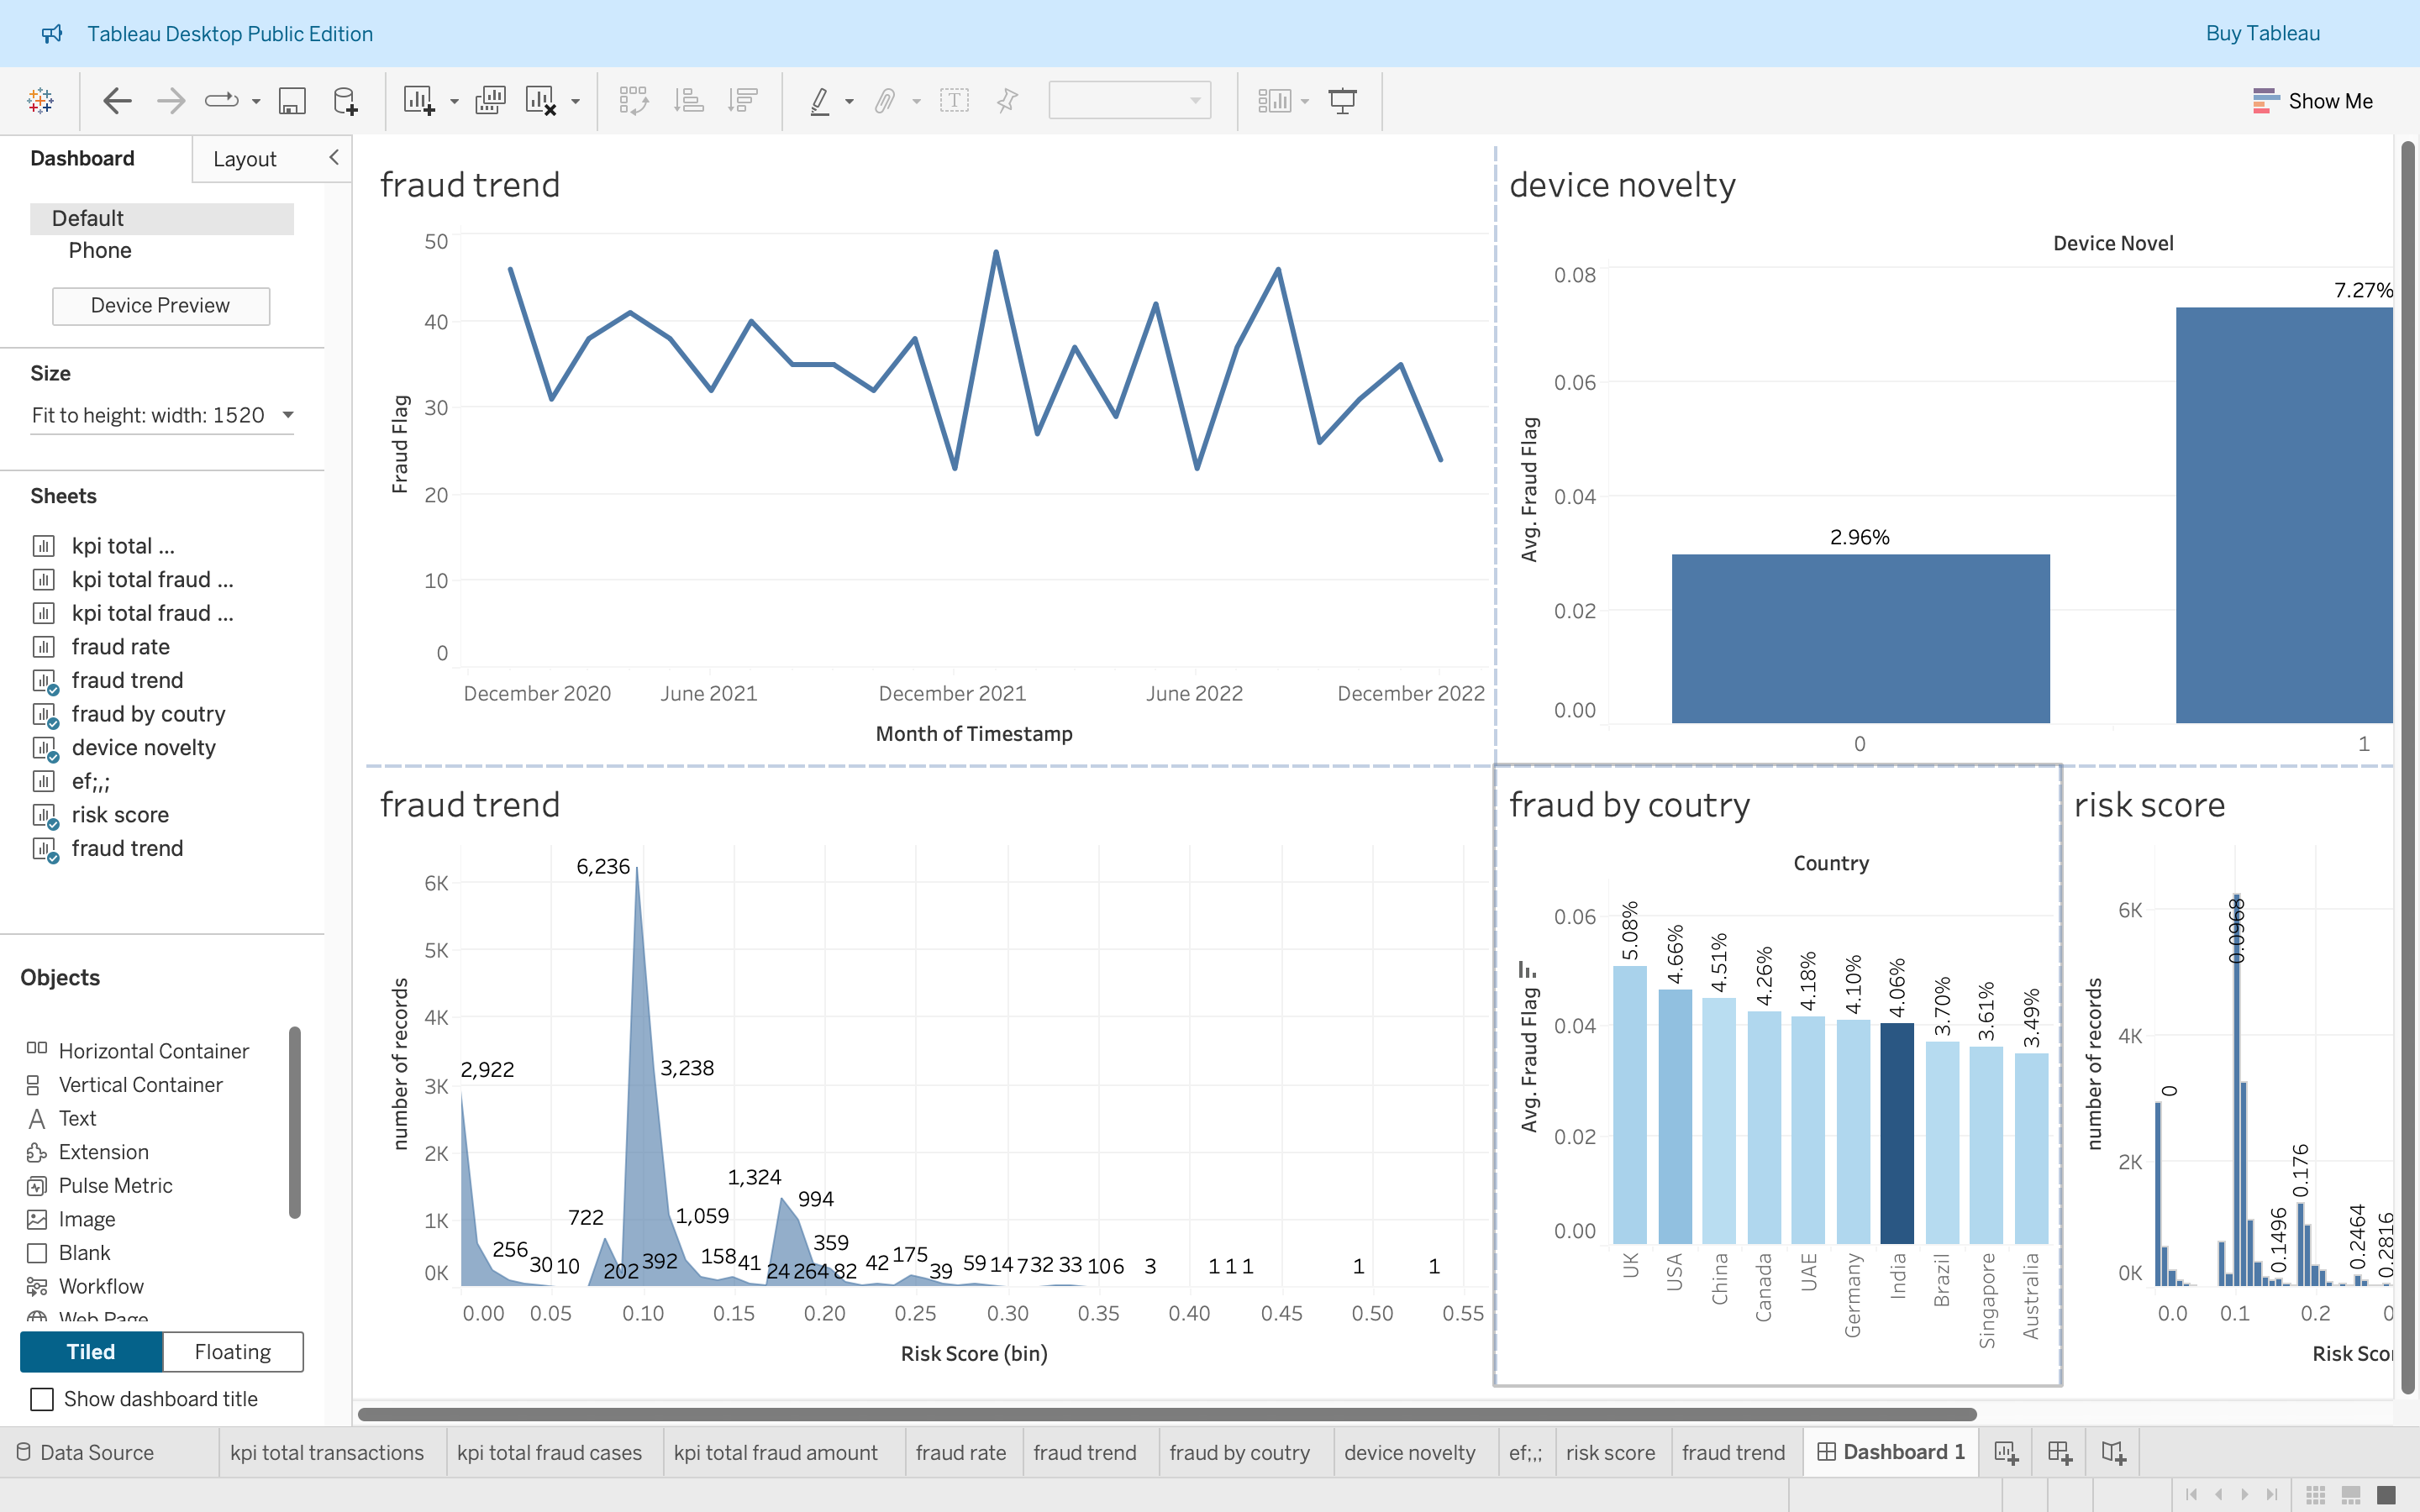

This screenshot's page, from the dashboard's own definition file:
{"tool":"tableau","page":{"name":"Dashboard 1","canvas":[1000,1000],"units":"permille","ordinal":0},"visuals":[{"type":"title","box":[6.5,11.8,987,47.1]},{"type":"worksheet","title":"kpi total fraud cases","mark":"Text","box":[6.5,58.9,125.4,134.4]},{"type":"worksheet","title":"fraud rate","mark":"Automatic","box":[131.9,58.9,163.5,134.4]},{"type":"worksheet","title":"kpi total fraud amount ","mark":"Automatic","box":[295.4,58.9,585.8,134.4]},{"type":"legend","title":"fraud by coutry ","param":"[federated.1lycqhu0mnhw8y16bqk5w08ctj57].[sum:FraudFlag:qk]","box":[881.2,58.9,112.3,95.7]},{"type":"worksheet","title":"device novelty ","mark":"Automatic","rows":["FraudFlag"],"cols":["DeviceNovel"],"box":[6.5,193.4,437.3,365.9]},{"type":"worksheet","title":"fraud by coutry ","mark":"Automatic","rows":["FraudFlag"],"cols":["Country"],"box":[443.8,193.4,437.4,417.8]},{"type":"worksheet","title":"fraud trend","mark":"Area","rows":["Calculation_3605518362972165"],"cols":["Risk Score (bin)"],"box":[6.5,559.3,437.3,428.9]},{"type":"worksheet","title":"risk score","mark":"Heatmap","rows":["Calculation_3605518362972165"],"cols":["Risk Score (bin)"],"box":[443.8,611.1,437.4,377.1]}]}

Visuals, with their boxes on the dashboard's canvas, which has no fixed pixel size, in thousandths of its width and height (x1, y1, x2, y2). These are canvas units, not pixel positions in the 2420x1512 screenshot, which may show the page scaled, cropped or inside an application window:
title: (6,12,994,59)
"kpi total fraud cases" worksheet (Text marks): (6,59,132,193)
"fraud rate" worksheet: (132,59,295,193)
"kpi total fraud amount " worksheet: (295,59,881,193)
"fraud by coutry " legend: (881,59,994,155)
"device novelty " worksheet: (6,193,444,559)
"fraud by coutry " worksheet: (444,193,881,611)
"fraud trend" worksheet (Area marks): (6,559,444,988)
"risk score" worksheet (Heatmap marks): (444,611,881,988)
